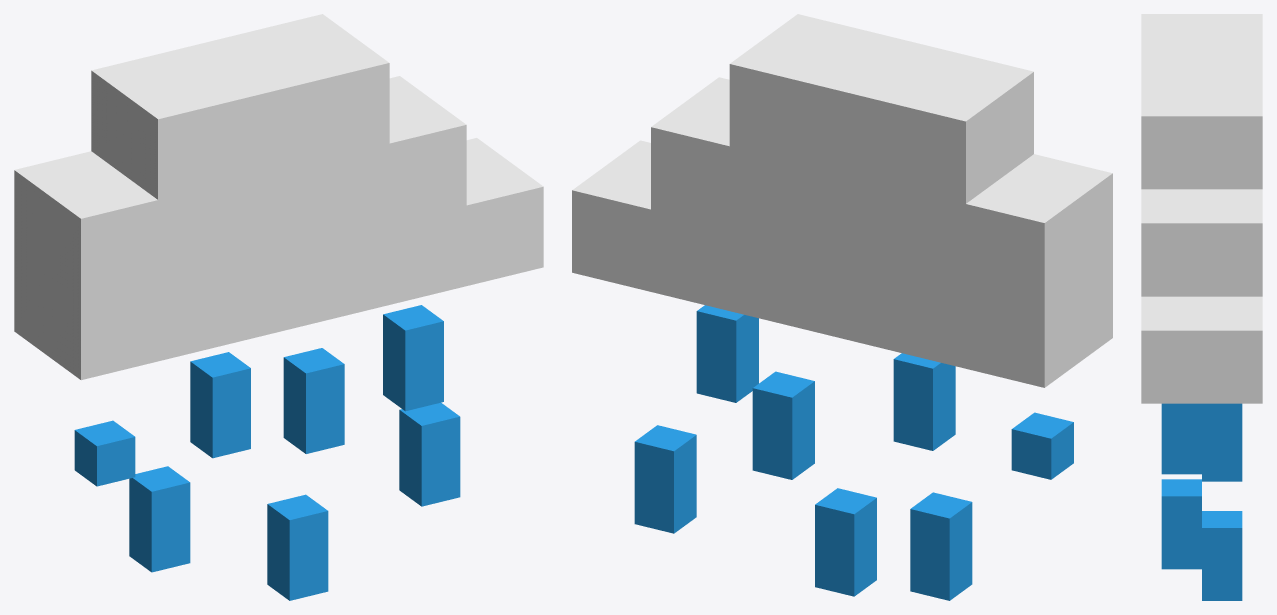
Rendered from rain.gltf.
3 views of the same model, side by side, from view 1: azimuth 30°, elevation 25°; view 2: azimuth 150°, elevation 25°; view 3: azimuth 270°, elevation 25° (orthographic). The views are drawn at different scales.
Visible parts, largest first — view 1: cloud-Local, rain-Local; view 2: cloud-Local, rain-Local; view 3: cloud-Local, rain-Local.
Boxes of the visible parts, <box> form: cloud-Local: <box>14,14,543,380</box>; rain-Local: <box>74,305,460,600</box>; cloud-Local: <box>572,14,1112,387</box>; rain-Local: <box>634,305,1073,600</box>; cloud-Local: <box>1141,14,1262,403</box>; rain-Local: <box>1161,403,1242,600</box>.
Bounding box in the file's own units: 12 × 13 × 3.
2 materials, 2 textured.
